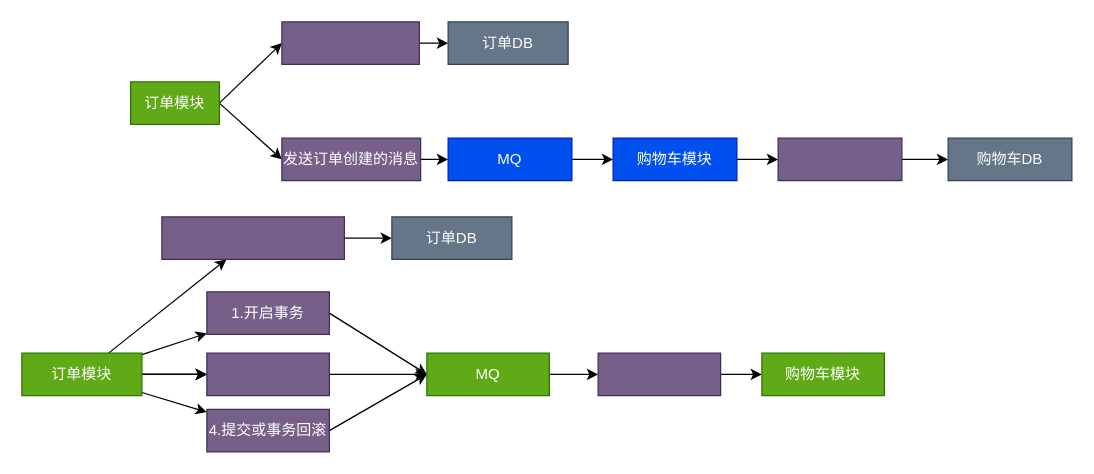
The diagram is 1094 pixels wide and 474 high, and some of its shapes have lost their labels. The box of each missing label's shape, as (x1, y1, x2, y2) in pixels:
2.发送半消息: (206, 352, 329, 396)
3.执行本地事务，创建订单: (161, 216, 344, 259)
5.投递消息: (597, 352, 721, 396)
创建订单: (281, 21, 419, 64)
清理购物车: (777, 137, 902, 181)
